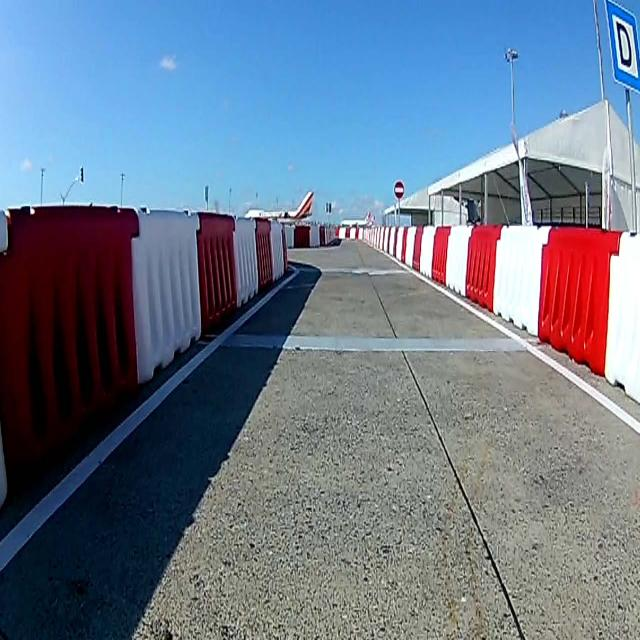durak: (605, 5, 640, 94)
girisyok: (394, 180, 404, 200)
